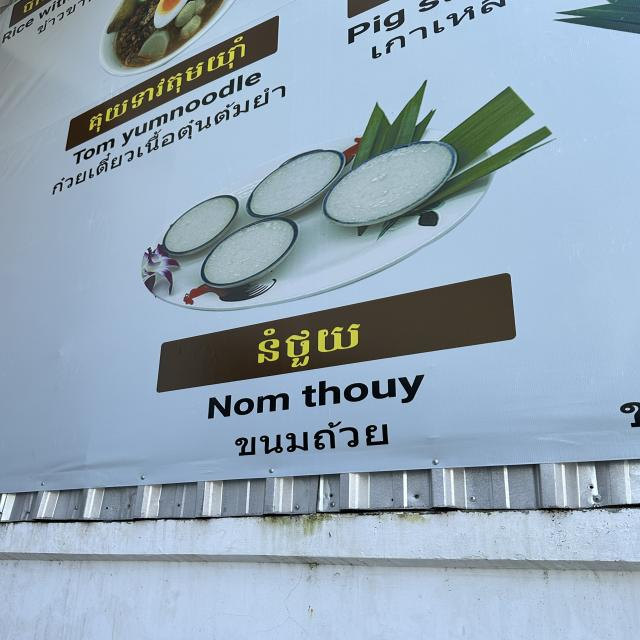Yolov11kh: (74, 24, 256, 136), (237, 310, 369, 376)
